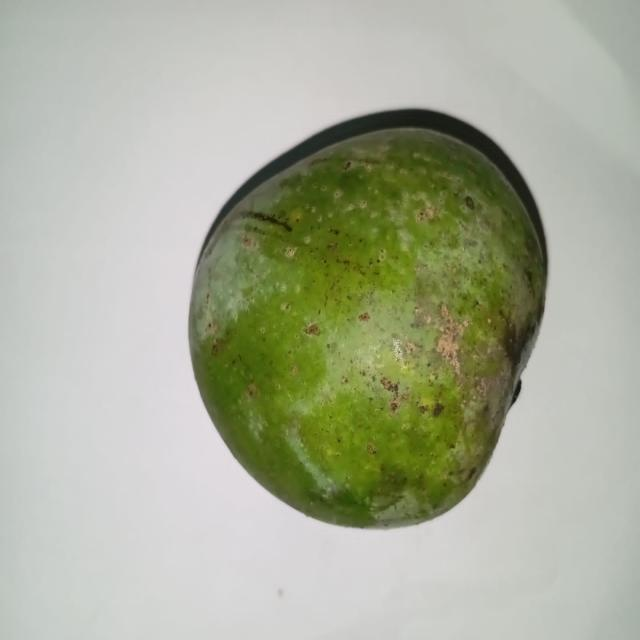rotten_mango: (187, 112, 544, 528)
